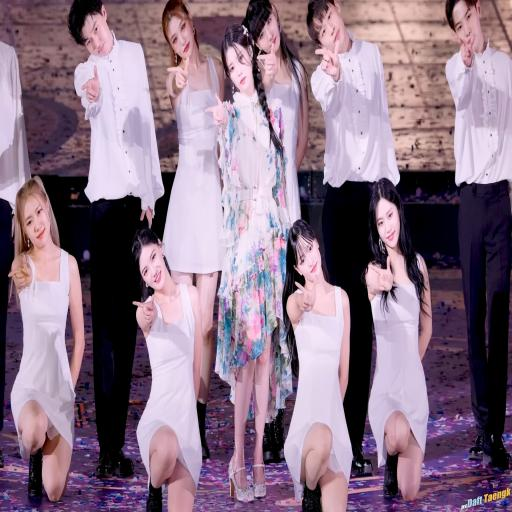IU: (220, 26, 256, 93)
